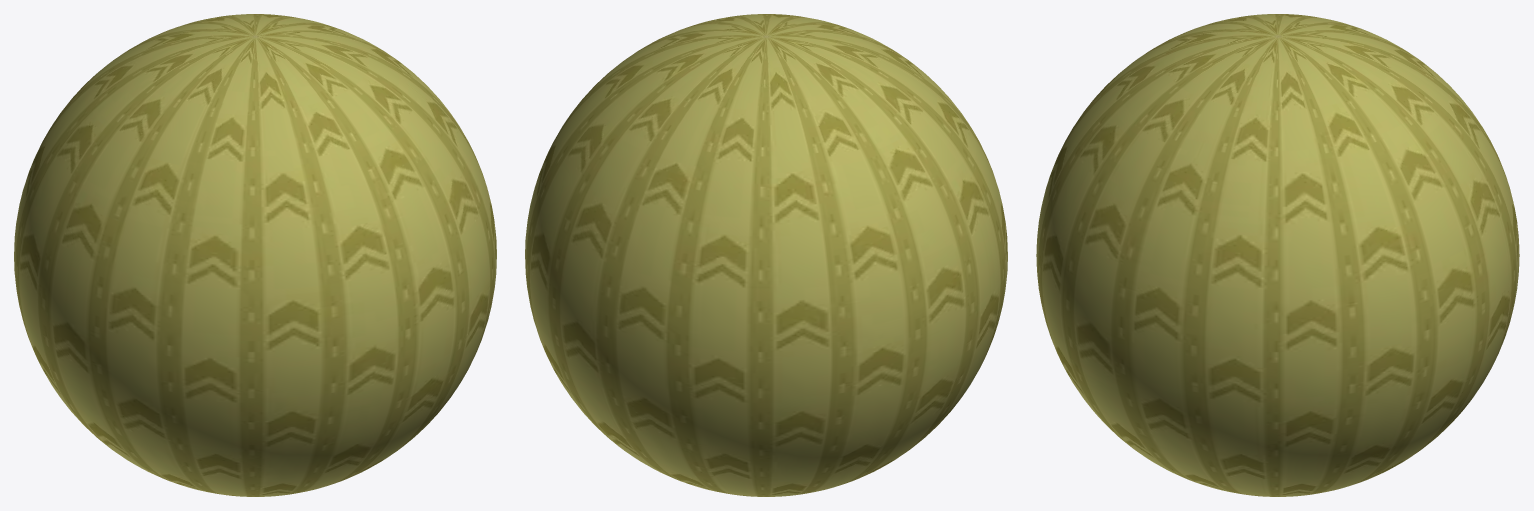
The model's file is cantaloupe-1.glb.
3 renders of one model, left to right at view 1: azimuth 30°, elevation 25°; view 2: azimuth 150°, elevation 25°; view 3: azimuth 270°, elevation 25°, orthographic.
Parts seen in each view (by area): view 1: Sphere_Mat_0; view 2: Sphere_Mat_0; view 3: Sphere_Mat_0.
Part boxes in pixels (x1=…): Sphere_Mat_0: x1=14, y1=14, x2=496, y2=496; Sphere_Mat_0: x1=525, y1=14, x2=1007, y2=496; Sphere_Mat_0: x1=1036, y1=14, x2=1519, y2=496.
Size of the model in its own units: 2 by 2 by 2.
Materials: 1 (1 with a texture image).
